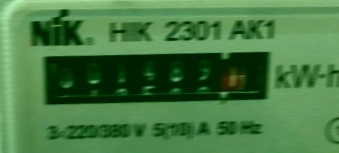0: (83, 59, 100, 85), (57, 64, 73, 90)
1: (112, 57, 128, 87), (225, 59, 238, 89)
4: (139, 57, 156, 84)
8: (165, 56, 183, 84)
9: (194, 57, 210, 82)
screen: (27, 36, 286, 122)
